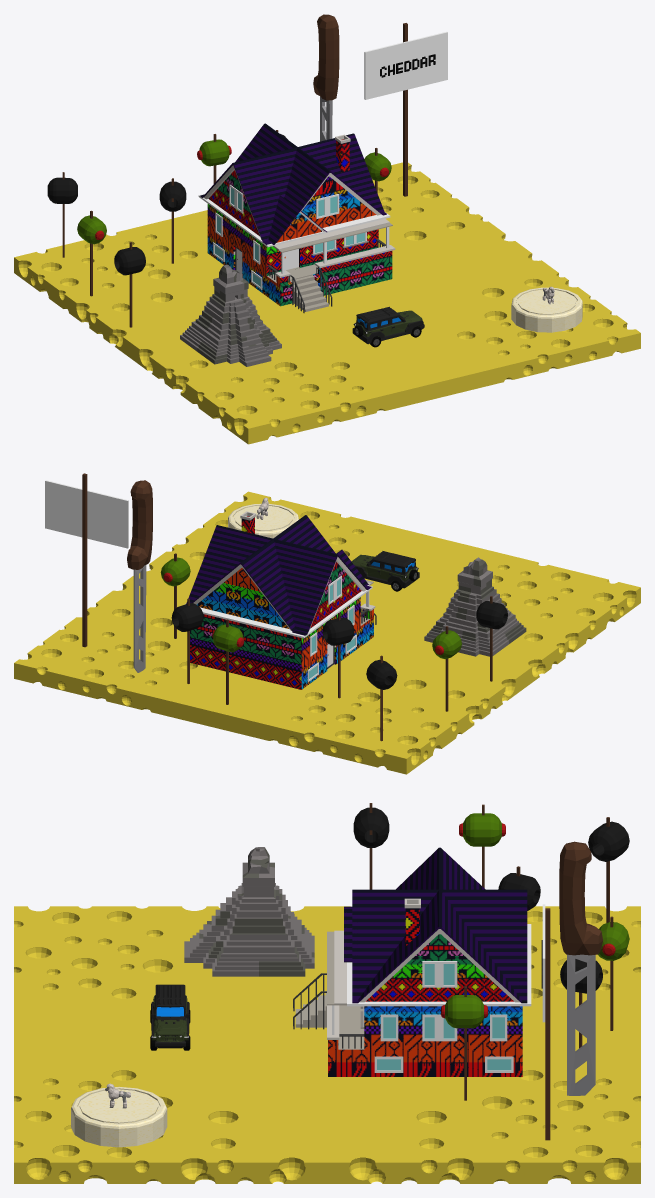
3 views of the same model, one above another, from view 1: azimuth 30°, elevation 25°; view 2: azimuth 150°, elevation 25°; view 3: azimuth 270°, elevation 25° (orthographic). The views are drawn at different scales.
Visible parts, largest first — view 1: Cube.022, Cube.966, OBJRANDOM_GRAN_JAGUAR, Cube.023, Cylinder.016, Cube.024, VEHICLES_JEEP, Sphere.017, Sphere.016, Sphere.020, Sphere.018, Sphere.022 (+1 smaller); view 2: Cube.022, Cube.966, Cube.023, OBJRANDOM_GRAN_JAGUAR, Cube.024, VEHICLES_JEEP, Cylinder.016, Sphere.017, Sphere.020, Sphere.021, Sphere.016, Sphere.018 (+2 smaller); view 3: Cube.022, Cube.966, OBJRANDOM_GRAN_JAGUAR, Cube.024, Cylinder.016, VEHICLES_JEEP, Cube.023, Sphere.019, Sphere.016, Sphere.018, Sphere.017, Sphere.022 (+2 smaller).
Part boxes in pixels (left/top/right/bottom): Cube.022: left=14, top=162, right=640, bottom=444; Cube.966: left=198, top=123, right=395, bottom=313; OBJRANDOM_GRAN_JAGUAR: left=180, top=264, right=281, bottom=366; Cube.023: left=364, top=23, right=447, bottom=196; Cylinder.016: left=511, top=287, right=582, bottom=332; Cube.024: left=313, top=14, right=339, bottom=141; VEHICLES_JEEP: left=352, top=306, right=424, bottom=347; Sphere.017: left=114, top=242, right=145, bottom=327; Sphere.016: left=47, top=172, right=77, bottom=257; Sphere.020: left=159, top=178, right=186, bottom=263; Sphere.018: left=77, top=210, right=106, bottom=296; Sphere.022: left=197, top=134, right=231, bottom=183; Cube.022: left=14, top=491, right=640, bottom=774; Cube.966: left=185, top=511, right=376, bottom=689; Cube.023: left=45, top=473, right=128, bottom=647; OBJRANDOM_GRAN_JAGUAR: left=424, top=557, right=526, bottom=656; Cube.024: left=127, top=480, right=152, bottom=672; VEHICLES_JEEP: left=351, top=551, right=419, bottom=591; Cylinder.016: left=228, top=503, right=298, bottom=538; Sphere.017: left=476, top=596, right=507, bottom=681; Sphere.020: left=322, top=612, right=354, bottom=698; Sphere.021: left=171, top=598, right=203, bottom=683; Sphere.016: left=366, top=655, right=397, bottom=741; Sphere.018: left=432, top=626, right=461, bottom=711; Cube.022: left=14, top=906, right=640, bottom=1183; Cube.966: left=293, top=847, right=531, bottom=1076; OBJRANDOM_GRAN_JAGUAR: left=184, top=847, right=314, bottom=976; Cube.024: left=559, top=841, right=602, bottom=1095; Cylinder.016: left=71, top=1086, right=167, bottom=1147; VEHICLES_JEEP: left=150, top=984, right=190, bottom=1050; Cube.023: left=541, top=904, right=550, bottom=1140; Sphere.019: left=441, top=986, right=487, bottom=1100; Sphere.016: left=588, top=817, right=629, bottom=922; Sphere.018: left=459, top=804, right=505, bottom=887; Sphere.017: left=353, top=803, right=389, bottom=889; Sphere.022: left=598, top=916, right=629, bottom=1030.
Bounding box in the file's own units: 3917 × 2023 × 4000.
Materials: 37 (7 with a texture image).
